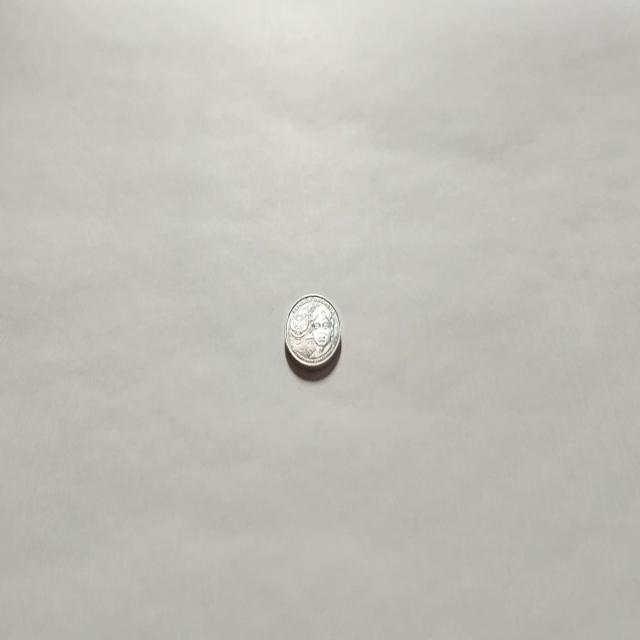dua ratus rupiah: (283, 293, 341, 372)
